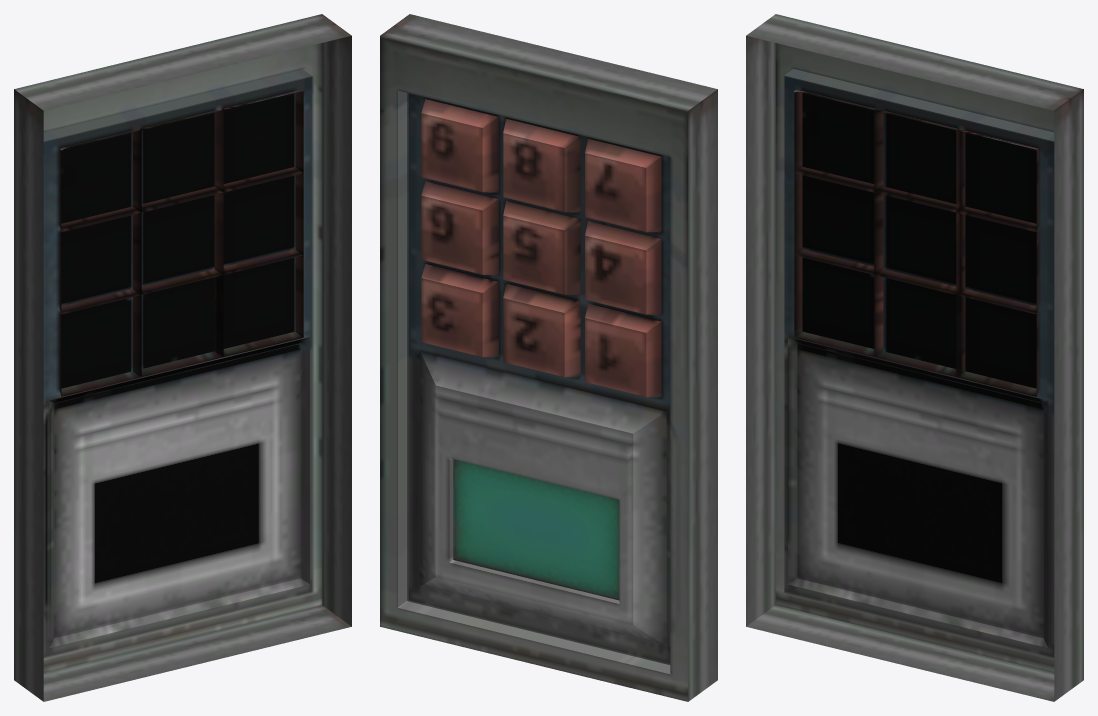
The model's file is keypad.obj.
3 views of the same model, side by side, from view 1: azimuth 30°, elevation 25°; view 2: azimuth 150°, elevation 25°; view 3: azimuth 330°, elevation 25° (orthographic).
Size of the model in its own units: 6 by 11 by 1.01.
